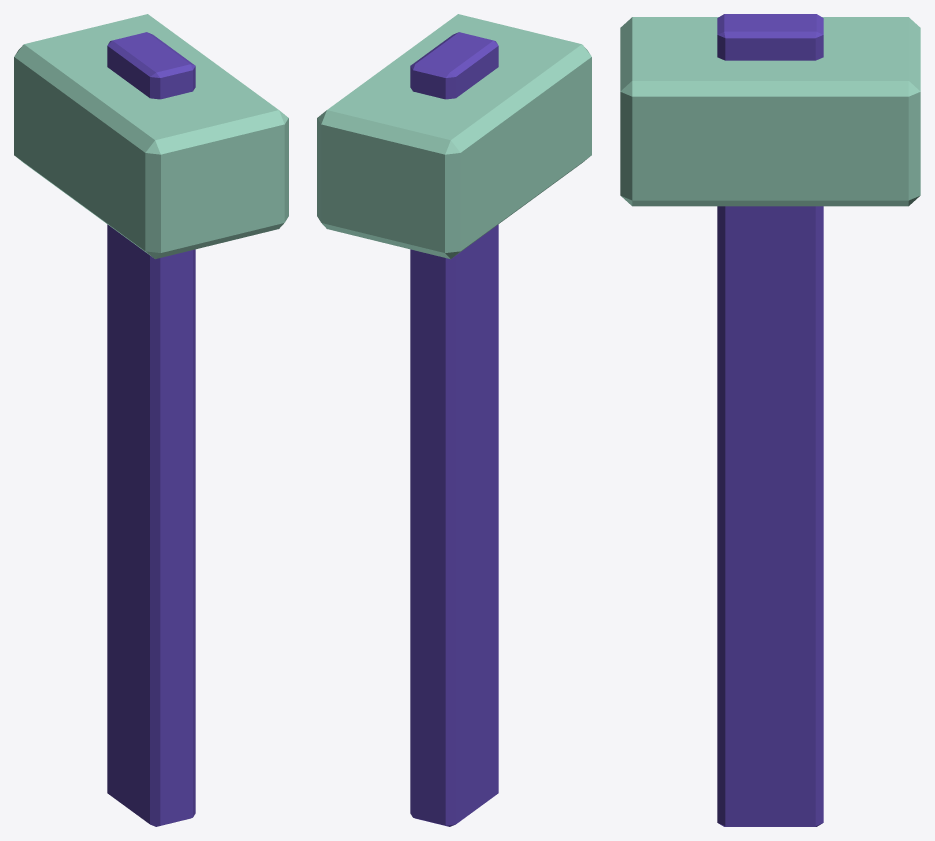
The picture shows the model from 3 angles, left to right: view 1: azimuth 30°, elevation 25°; view 2: azimuth 150°, elevation 25°; view 3: azimuth 270°, elevation 25°; orthographic projection. The views are drawn at different scales.
Parts seen in each view (by area): view 1: world; view 2: world; view 3: world.
Part boxes in pixels (<box>): world: <box>14,14,288,826</box>; world: <box>317,14,591,826</box>; world: <box>620,14,920,826</box>.
Size of the model in its own units: 0.199 by 1 by 0.3425.
